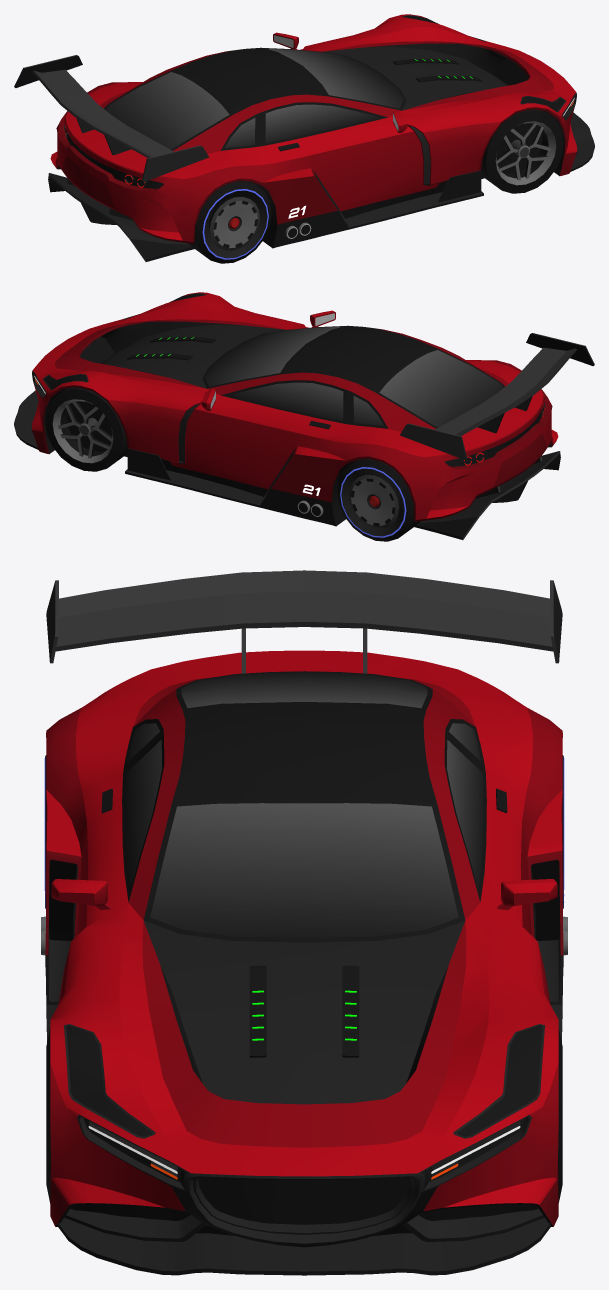
File: Car_083.glb
3 views of the same model, one above another, from view 1: azimuth 30°, elevation 25°; view 2: azimuth 150°, elevation 25°; view 3: azimuth 270°, elevation 25° (orthographic). The views are drawn at different scales.
Parts seen in each view (by area): view 1: Car_083, wheel_1_Car_083_Wheel_1R, wheel_3_Car_083_Wheel_2R; view 2: Car_083, wheel_0_Car_083_Wheel_1L, wheel_2_Car_083_Wheel_2L; view 3: Car_083.
Part boxes in pixels (x1,y1,x2,y2): Car_083: (14, 14, 594, 261); wheel_1_Car_083_Wheel_1R: (481, 109, 563, 193); wheel_3_Car_083_Wheel_2R: (188, 180, 271, 263); Car_083: (14, 292, 594, 539); wheel_0_Car_083_Wheel_1L: (45, 387, 127, 471); wheel_2_Car_083_Wheel_2L: (337, 458, 420, 541); Car_083: (41, 570, 567, 1275).
Bounding box in the file's own units: 4.91 × 1.21 × 2.28.
3 materials, 3 textured.
